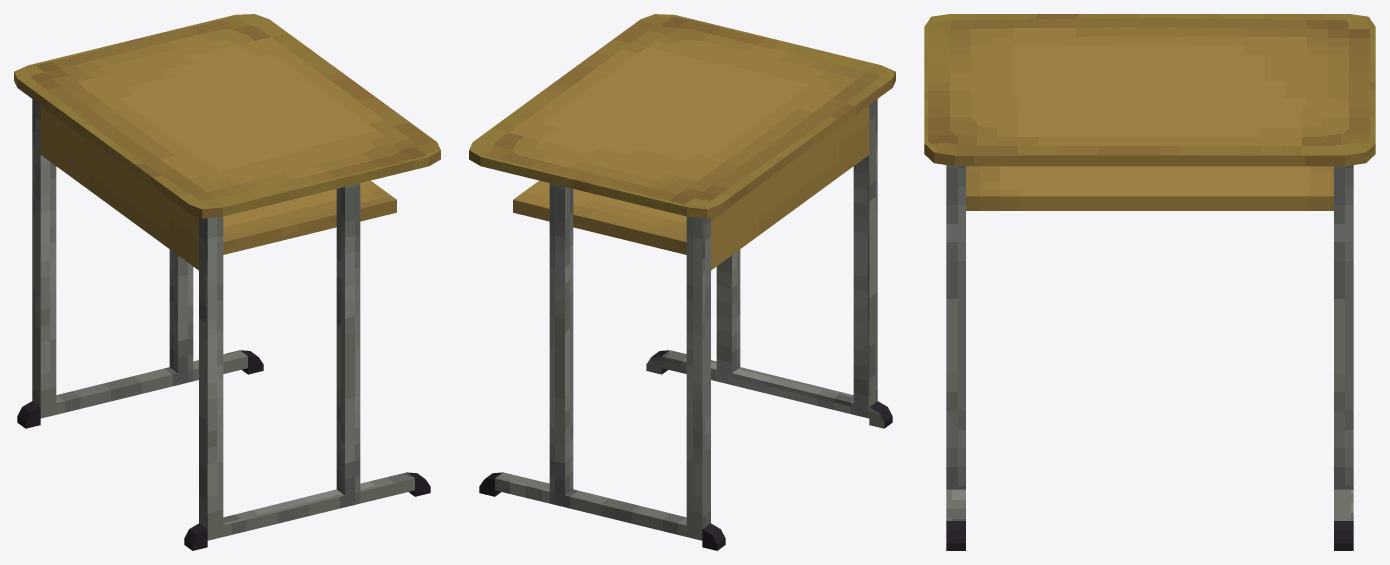
The model's file is Studen table.fbx.
The picture shows the model from 3 angles, left to right: view 1: azimuth 30°, elevation 25°; view 2: azimuth 150°, elevation 25°; view 3: azimuth 270°, elevation 25°; orthographic projection. The views are drawn at different scales.
Parts seen in each view (by area): view 1: Cube.001; view 2: Cube.001; view 3: Cube.001.
Part boxes in pixels (x1,y1,x2,y2): Cube.001: [14, 14, 440, 550]; Cube.001: [469, 14, 895, 550]; Cube.001: [924, 14, 1375, 550].
Bounding box in the file's own units: 300 × 396 × 404.
1 material, 1 textured.
